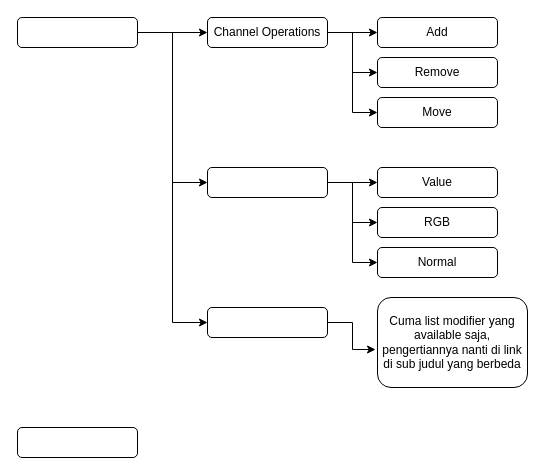
Some shapes in this 545 by 475 pixel diagram are drawn without their labels. The shapes that lost their labels are listed below. From the top down, each one's centre as x and y in pixels, then its label:
pixel 77 32: Channels
pixel 267 182: Channel Type
pixel 267 322: Modifier
pixel 77 442: Layers
